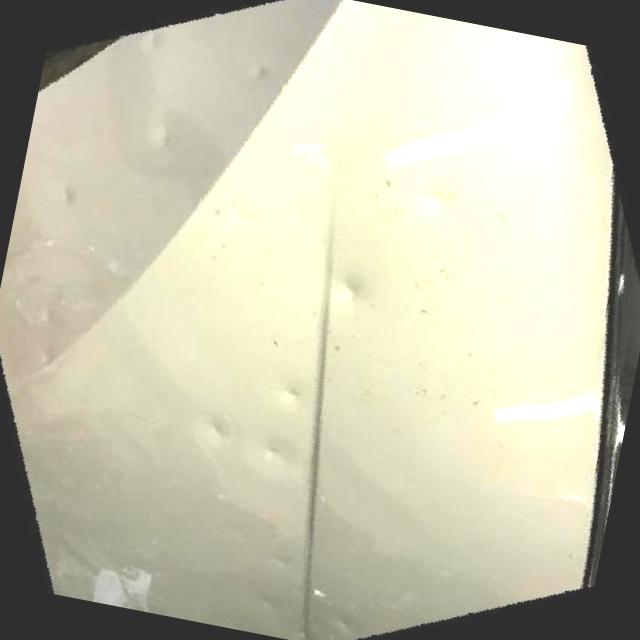dent: (192, 408, 243, 454), (250, 434, 292, 469), (331, 271, 369, 305), (144, 119, 175, 157), (54, 182, 82, 212), (426, 184, 452, 214), (248, 62, 274, 86), (140, 30, 164, 56), (256, 592, 282, 612), (332, 611, 356, 632), (282, 384, 302, 406), (270, 550, 288, 572), (38, 348, 54, 368)
